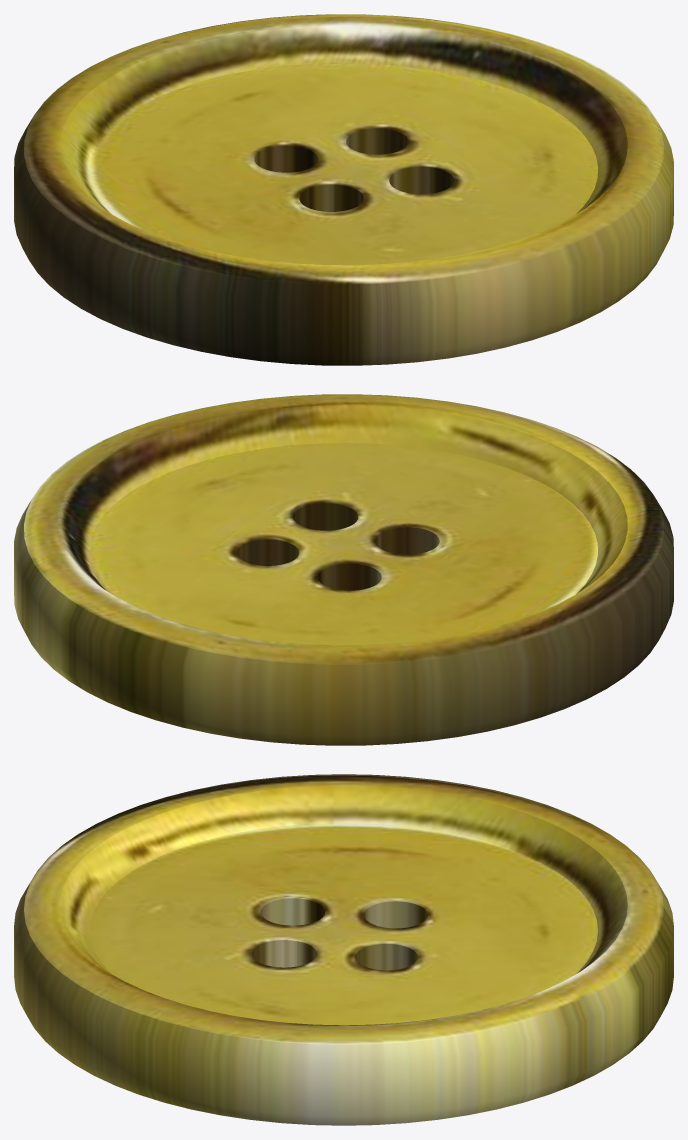
The model's file is gold_button.glb.
3 renders of one model, top to bottom at view 1: azimuth 30°, elevation 25°; view 2: azimuth 150°, elevation 25°; view 3: azimuth 270°, elevation 25°, orthographic.
Parts seen in each view (by area): view 1: button; view 2: button; view 3: button.
Part boxes in pixels (x1,y1,x2,y2): button: (14,14,673,365); button: (14,394,673,745); button: (14,774,673,1125).
Size of the model in its own units: 2.2 by 0.308 by 2.2.
Materials: 1 (1 with a texture image).
